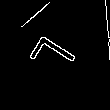L_SE: (28, 33, 85, 86)
